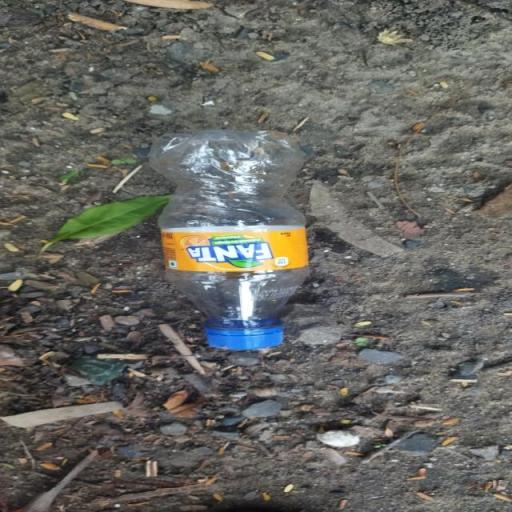plastic: (147, 128, 314, 350)
